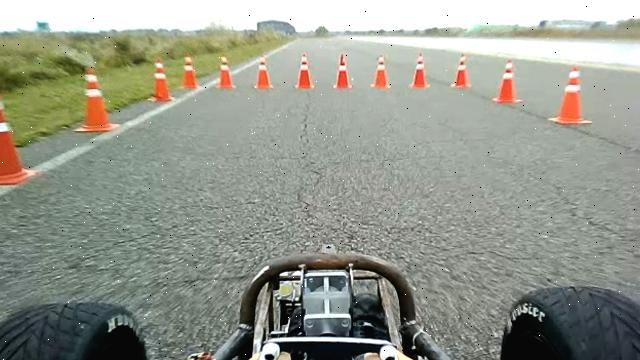red cone: (0, 84, 36, 186), (72, 67, 120, 132), (548, 65, 592, 125), (492, 59, 522, 104), (147, 56, 174, 102), (252, 53, 274, 90), (294, 52, 315, 90), (450, 52, 472, 88), (410, 52, 430, 89), (180, 53, 199, 90), (370, 54, 390, 89), (333, 53, 352, 89), (216, 56, 236, 90)
